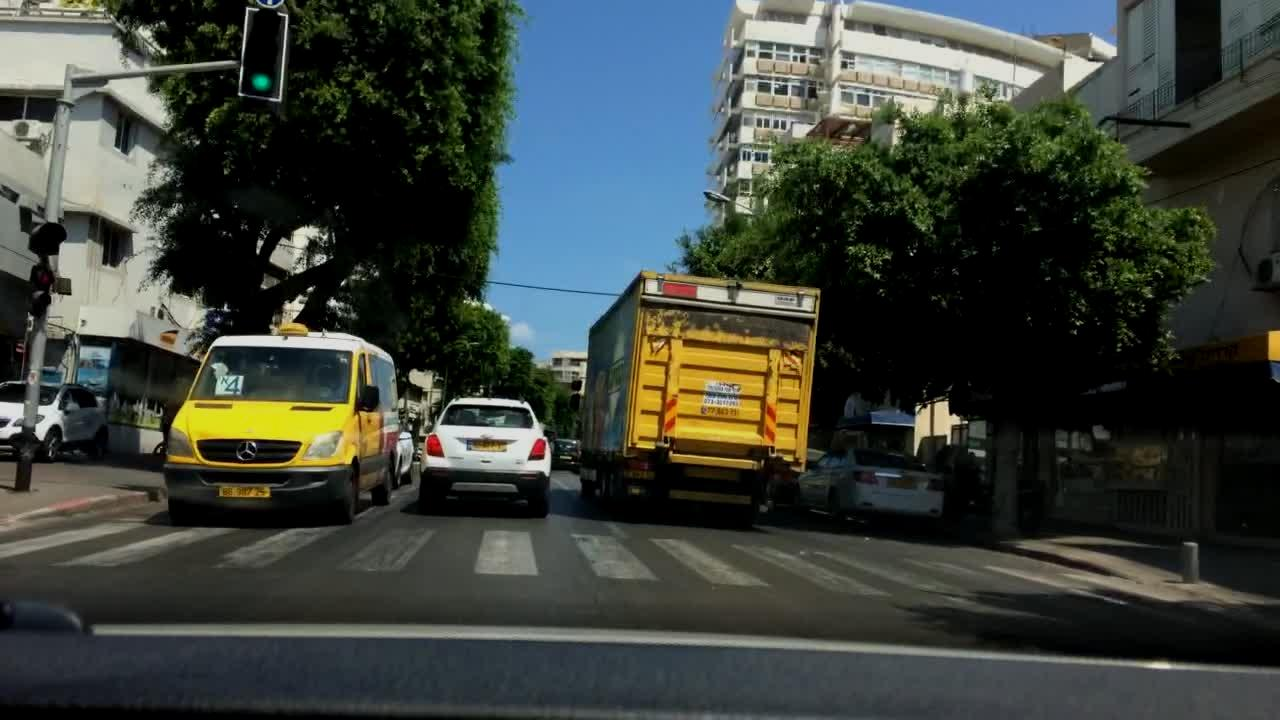Mercedes: (234, 439, 260, 464)
